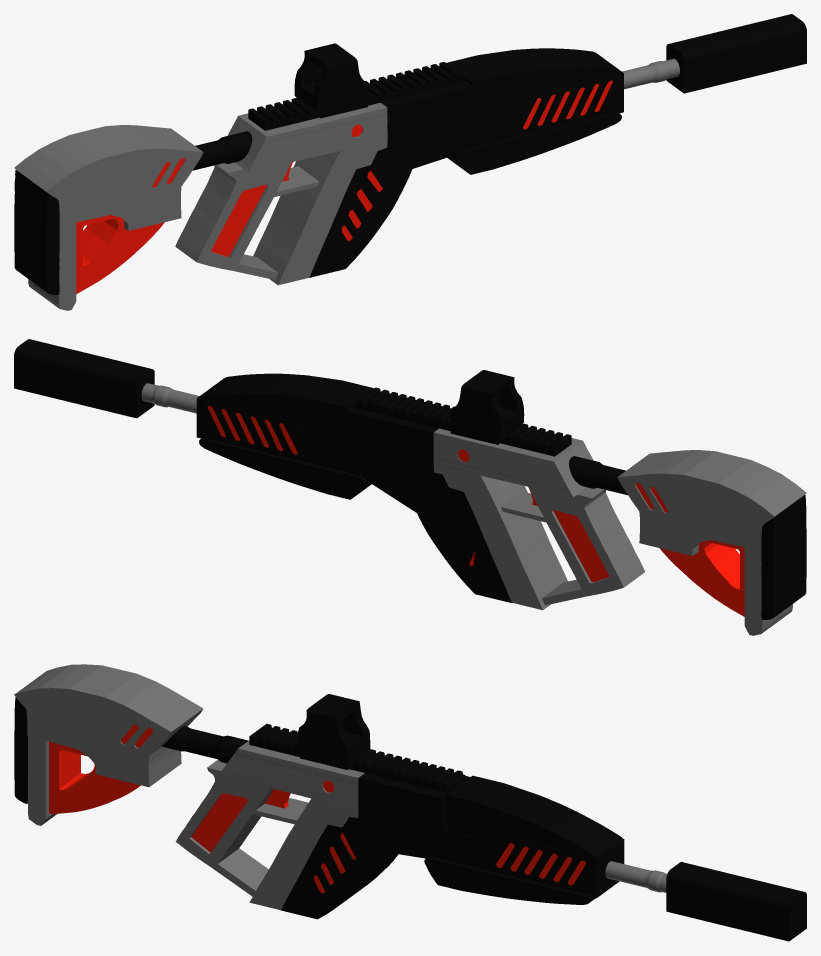
Rendered from scifi.rife.fbx.
3 renders of one model, top to bottom at view 1: azimuth 30°, elevation 25°; view 2: azimuth 150°, elevation 25°; view 3: azimuth 330°, elevation 25°, orthographic.
Visible parts, largest first — view 1: stock.001, grip.front, Cube, grip, body.front.lower, barrel.shrowed.top, barrel.shrowed.middle, body.center.upper, body.front.upper, stock.butt, sight, rail (+8 smaller); view 2: stock.001, grip.front, grip, body.front.lower, Cube, barrel.shrowed.top, barrel.shrowed.middle, body.center.upper, body.front.upper, stock.butt, sight, rail (+8 smaller); view 3: stock.001, barrel.shrowed.top, Cube, body.front.lower, barrel.shrowed.middle, grip, body.front.upper, body.center.upper, sight, grip.front, rail, stock.bottom (+7 smaller).
Boxes of the visible parts, x1,y1,x2,y2 form: stock.001: (14, 125, 203, 230); grip.front: (253, 143, 387, 285); Cube: (666, 14, 806, 93); grip: (175, 162, 291, 271); body.front.lower: (309, 143, 458, 277); barrel.shrowed.top: (446, 48, 622, 117); barrel.shrowed.middle: (458, 73, 623, 150); body.center.upper: (227, 102, 387, 168); body.front.upper: (381, 80, 473, 152); stock.butt: (14, 170, 59, 294); sight: (294, 43, 367, 118); rail: (248, 62, 464, 130); stock.001: (617, 450, 806, 555); grip.front: (434, 467, 567, 609); grip: (528, 487, 644, 596); body.front.lower: (362, 467, 511, 602); Cube: (14, 339, 154, 418); barrel.shrowed.top: (197, 373, 373, 442); barrel.shrowed.middle: (196, 398, 362, 475); body.center.upper: (433, 427, 593, 493); body.front.upper: (347, 391, 450, 477); stock.butt: (761, 495, 806, 619); sight: (450, 370, 524, 444); rail: (355, 387, 571, 456); stock.001: (14, 664, 203, 787); barrel.shrowed.top: (446, 775, 623, 858); Cube: (666, 862, 806, 941); body.front.lower: (281, 817, 430, 919); barrel.shrowed.middle: (430, 830, 624, 898); grip: (175, 760, 273, 868); body.front.upper: (358, 773, 470, 847); body.center.upper: (221, 740, 364, 812); sight: (296, 694, 370, 769); grip.front: (249, 801, 358, 910); rail: (249, 724, 465, 793); stock.bottom: (49, 741, 140, 814).
Bounding box in the file's own units: 31.36 × 108 × 426.
